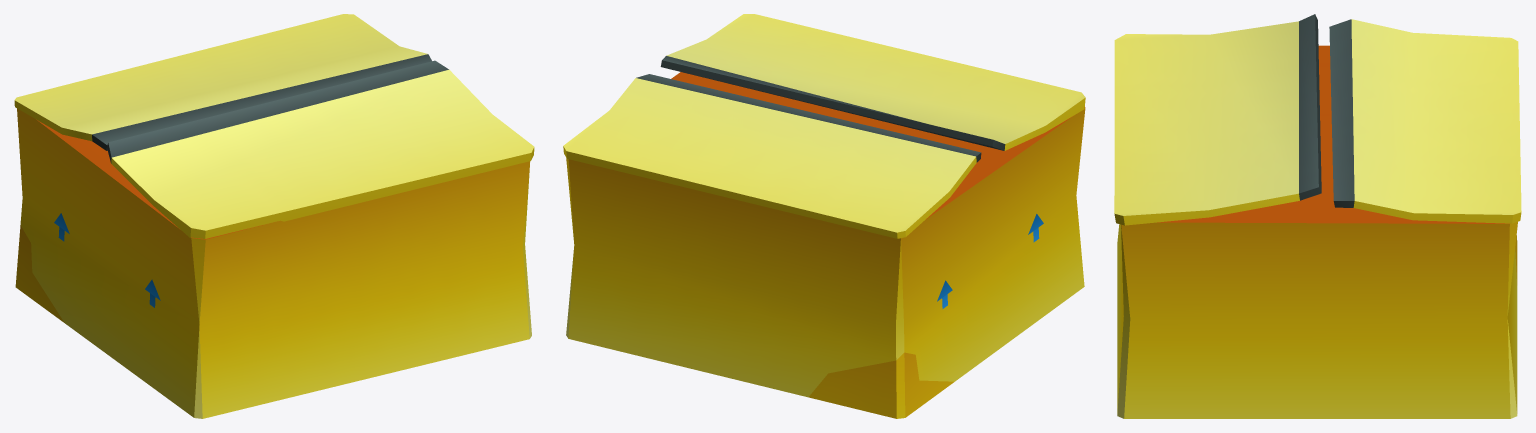
Rendered from Luggage_Pack_1D.fbx.
3 views of the same model, side by side, from view 1: azimuth 30°, elevation 25°; view 2: azimuth 150°, elevation 25°; view 3: azimuth 270°, elevation 25° (orthographic). The views are drawn at different scales.
Parts seen in each view (by area): view 1: Luggage_Pack_1D; view 2: Luggage_Pack_1D; view 3: Luggage_Pack_1D.
Boxes of the visible parts, bbox=[...] form: Luggage_Pack_1D: bbox=[14, 14, 534, 418]; Luggage_Pack_1D: bbox=[563, 14, 1085, 418]; Luggage_Pack_1D: bbox=[1114, 14, 1521, 418].
Size of the model in its own units: 193 by 113 by 183.
